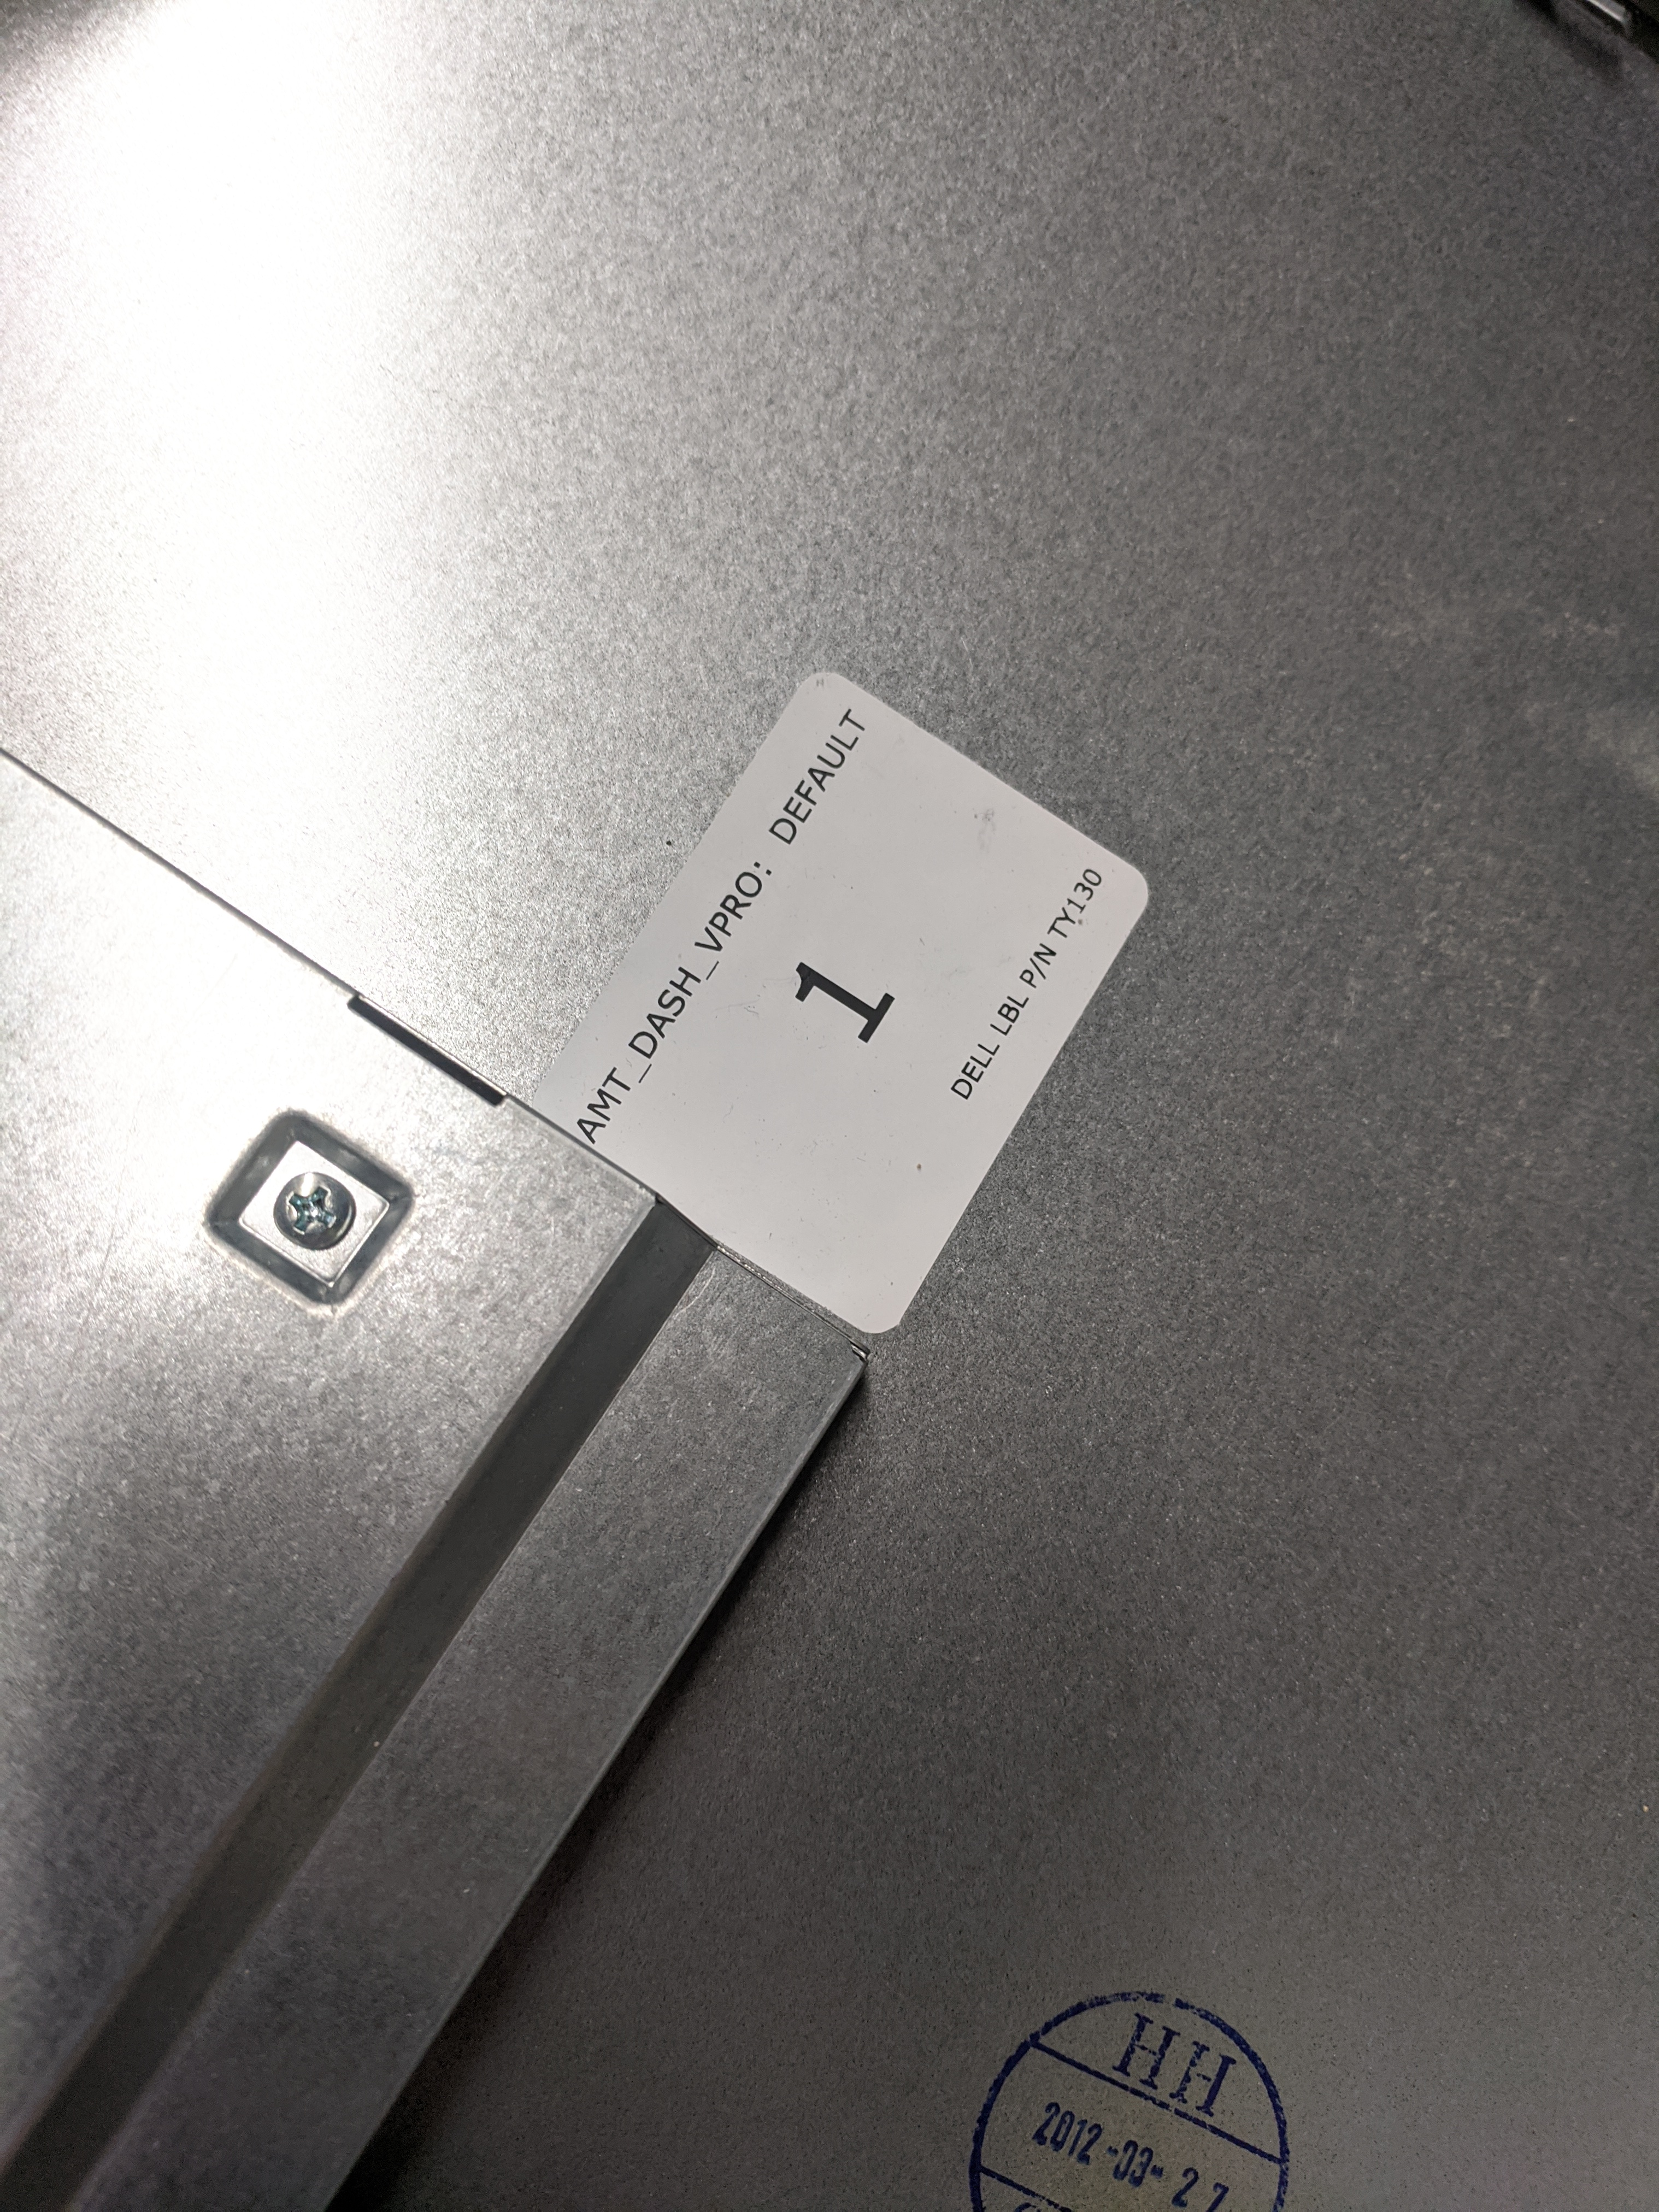cross_recessed_screw: (261, 1165, 349, 1247)
